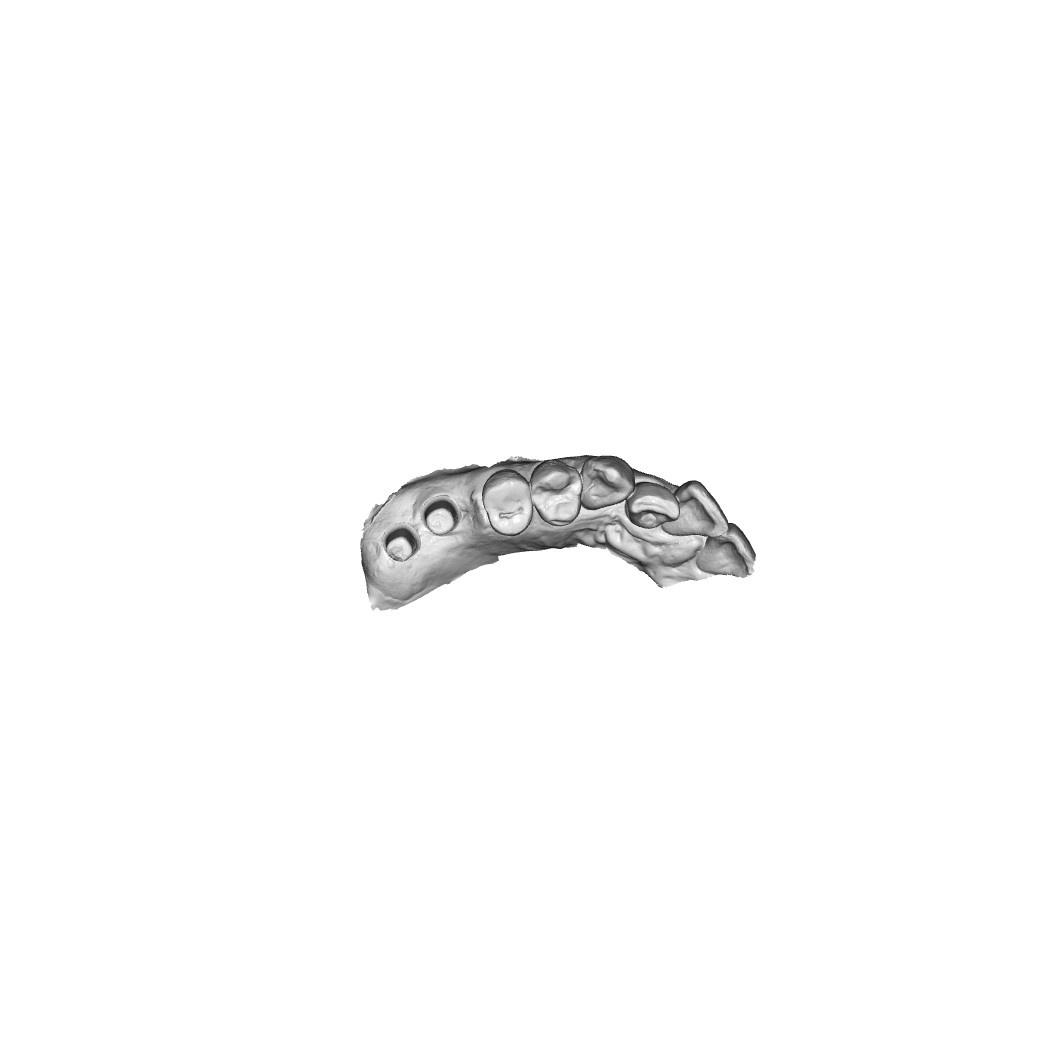abutment: (383, 519, 422, 564), (422, 494, 460, 538)
canine: (578, 453, 633, 513)
incisor: (663, 479, 729, 539), (694, 522, 757, 579), (625, 480, 677, 531)
premolar: (528, 459, 584, 529), (481, 469, 535, 539)
